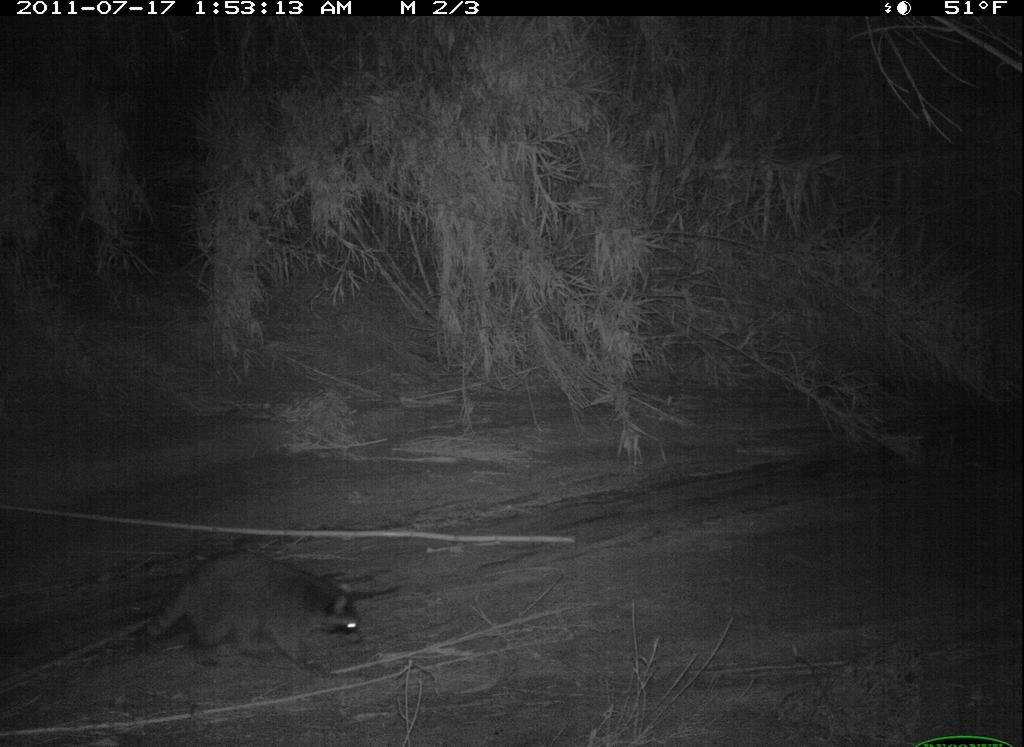raccoon: (112, 542, 392, 698)
